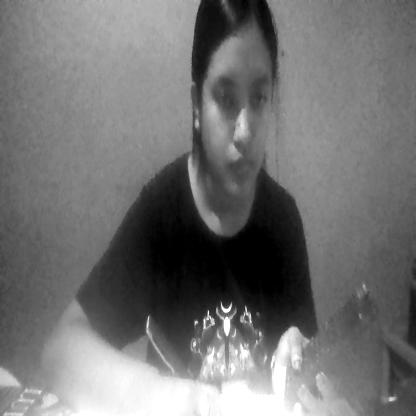Distracted: (189, 0, 280, 200)
